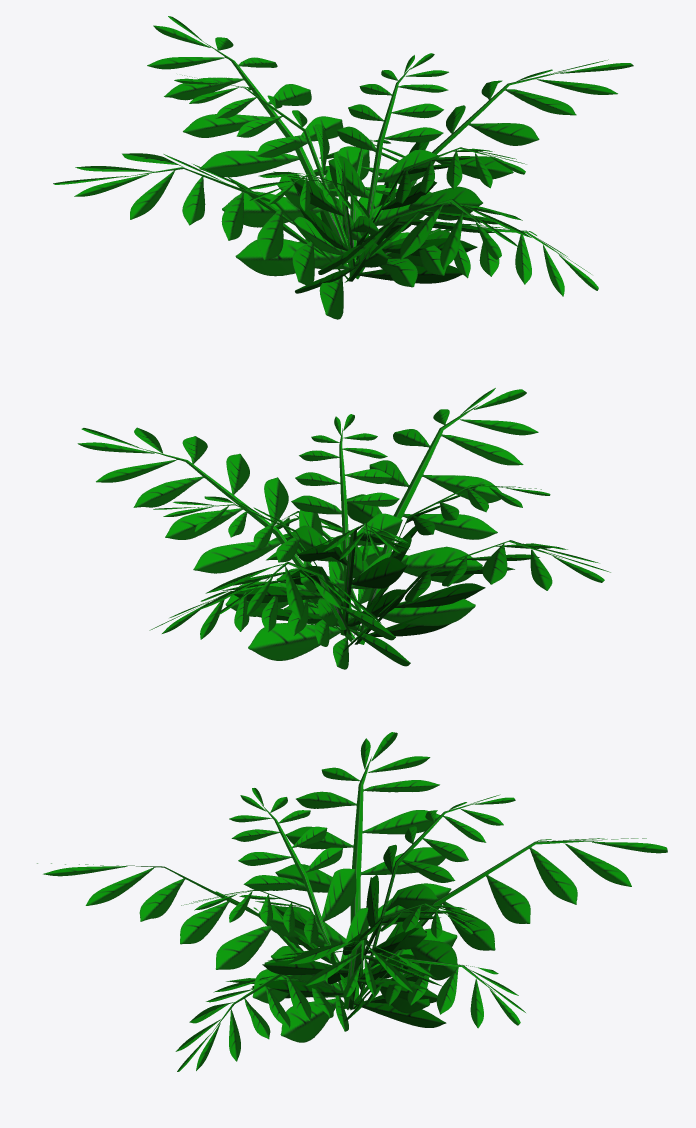
Rendered from grass.fbx.
3 views of the same model, one above another, from view 1: azimuth 30°, elevation 25°; view 2: azimuth 150°, elevation 25°; view 3: azimuth 270°, elevation 25° (orthographic).
Parts seen in each view (by area): view 1: pasted__pasted__pasted__pasted__pasted__pasted__pasted__pPla (×3), pasted__pasted__pasted__pasted__pasted__pasted__pasted__past (×3), pasted__pasted__pasted__pasted__pasted__pPlane4, pasted__pasted__pasted__pasted__pasted__pasted__pPlane5, pasted__pasted__pasted__pasted__pasted__pasted__pPlane4, pasted__pasted__pasted__pasted__pasted__pasted__pPlane6; view 2: pasted__pasted__pasted__pasted__pasted__pasted__pasted__pPla (×3), pasted__pasted__pasted__pasted__pasted__pasted__pPlane5, pasted__pasted__pasted__pasted__pasted__pasted__pPlane4, pasted__pasted__pasted__pasted__pasted__pasted__pasted__past (×3), pasted__pasted__pasted__pasted__pasted__pPlane4, pasted__pasted__pasted__pasted__pasted__pasted__pPlane6; view 3: pasted__pasted__pasted__pasted__pasted__pasted__pasted__pPla (×3), pasted__pasted__pasted__pasted__pasted__pasted__pasted__past (×3), pasted__pasted__pasted__pasted__pasted__pPlane4, pasted__pasted__pasted__pasted__pasted__pasted__pPlane4, pasted__pasted__pasted__pasted__pasted__pasted__pPlane6, pasted__pasted__pasted__pasted__pasted__pasted__pPlane5.
Boxes of the visible parts, x1=… form: pasted__pasted__pasted__pasted__pasted__pasted__pasted__pPla (×3): x1=147, y1=16, x2=526, y2=276; pasted__pasted__pasted__pasted__pasted__pasted__pasted__past (×3): x1=174, y1=75, x2=598, y2=296; pasted__pasted__pasted__pasted__pasted__pPlane4: x1=53, y1=153, x2=348, y2=319; pasted__pasted__pasted__pasted__pasted__pasted__pPlane5: x1=355, y1=59, x2=633, y2=279; pasted__pasted__pasted__pasted__pasted__pasted__pPlane4: x1=295, y1=199, x2=531, y2=293; pasted__pasted__pasted__pasted__pasted__pasted__pPlane6: x1=246, y1=171, x2=388, y2=272; pasted__pasted__pasted__pasted__pasted__pasted__pasted__pPla (×3): x1=153, y1=414, x2=410, y2=666; pasted__pasted__pasted__pasted__pasted__pasted__pPlane5: x1=77, y1=427, x2=354, y2=660; pasted__pasted__pasted__pasted__pasted__pasted__pPlane4: x1=327, y1=388, x2=538, y2=644; pasted__pasted__pasted__pasted__pasted__pasted__pasted__past (×3): x1=149, y1=511, x2=409, y2=669; pasted__pasted__pasted__pasted__pasted__pPlane4: x1=343, y1=540, x2=610, y2=651; pasted__pasted__pasted__pasted__pasted__pasted__pPlane6: x1=353, y1=484, x2=550, y2=636; pasted__pasted__pasted__pasted__pasted__pasted__pasted__pPla (×3): x1=181, y1=838, x2=667, y2=1013; pasted__pasted__pasted__pasted__pasted__pasted__pasted__past (×3): x1=175, y1=794, x2=525, y2=1071; pasted__pasted__pasted__pasted__pasted__pPlane4: x1=264, y1=732, x2=457, y2=1009; pasted__pasted__pasted__pasted__pasted__pasted__pPlane4: x1=37, y1=863, x2=348, y2=1042; pasted__pasted__pasted__pasted__pasted__pasted__pPlane6: x1=229, y1=788, x2=368, y2=999; pasted__pasted__pasted__pasted__pasted__pasted__pPlane5: x1=252, y1=940, x2=446, y2=1027.
Bounding box in the file's own units: 2.35 × 0.7737 × 2.31.
9 materials, 9 textured.
